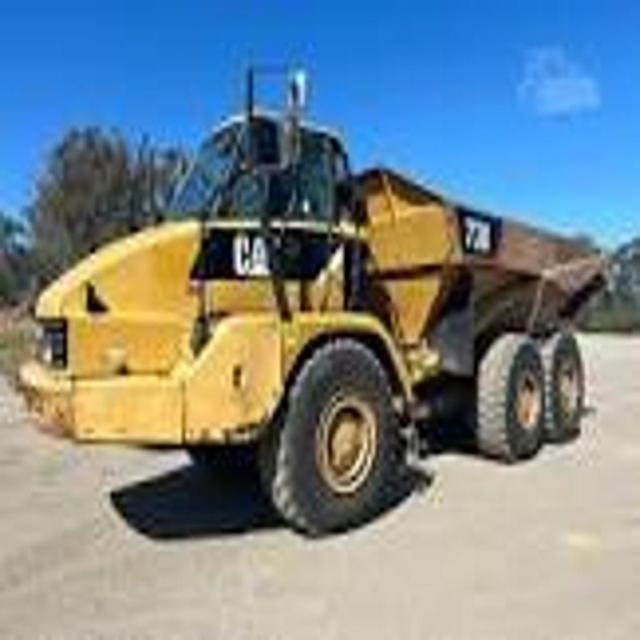dump_truck: (20, 56, 616, 546)
